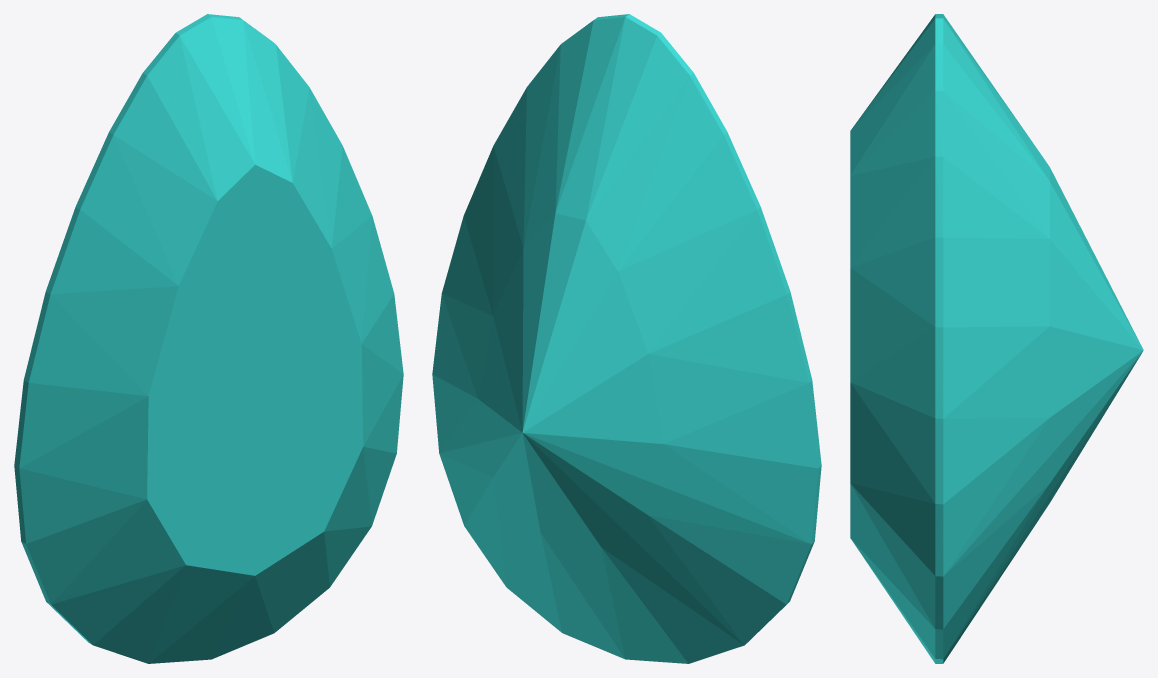
The model's file is paraiba-loose.glb.
The picture shows the model from 3 angles, left to right: view 1: azimuth 30°, elevation 25°; view 2: azimuth 150°, elevation 25°; view 3: azimuth 270°, elevation 25°; orthographic projection. The views are drawn at different scales.
Visible parts, largest first — view 1: Pear Paraiba | 10.47 x 6.59 x 4.45 mm envelope; view 2: Pear Paraiba | 10.47 x 6.59 x 4.45 mm envelope; view 3: Pear Paraiba | 10.47 x 6.59 x 4.45 mm envelope.
Boxes of the visible parts, x1,y1,x2,y2 form: Pear Paraiba | 10.47 x 6.59 x 4.45 mm envelope: [14, 14, 403, 663]; Pear Paraiba | 10.47 x 6.59 x 4.45 mm envelope: [432, 14, 821, 663]; Pear Paraiba | 10.47 x 6.59 x 4.45 mm envelope: [850, 14, 1143, 663].
Size of the model in its own units: 6.59 by 10.47 by 4.45.
